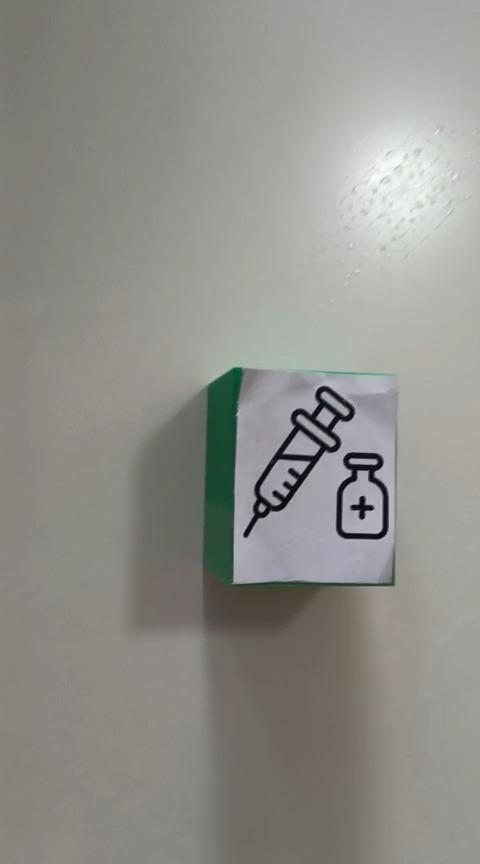antiseptic cream: (203, 365, 399, 587)
